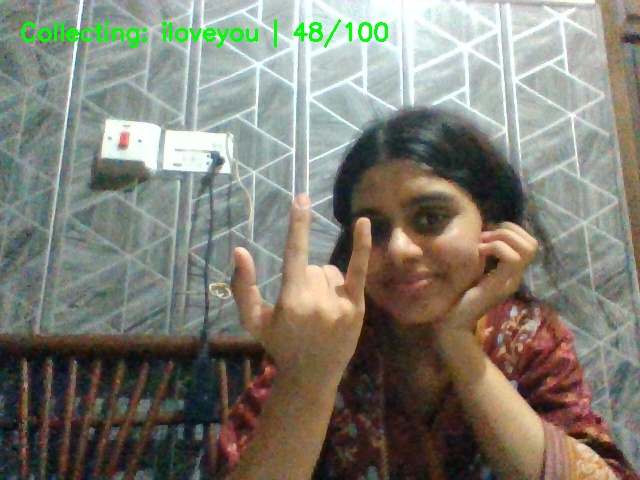iloveyou: (222, 177, 382, 416)
